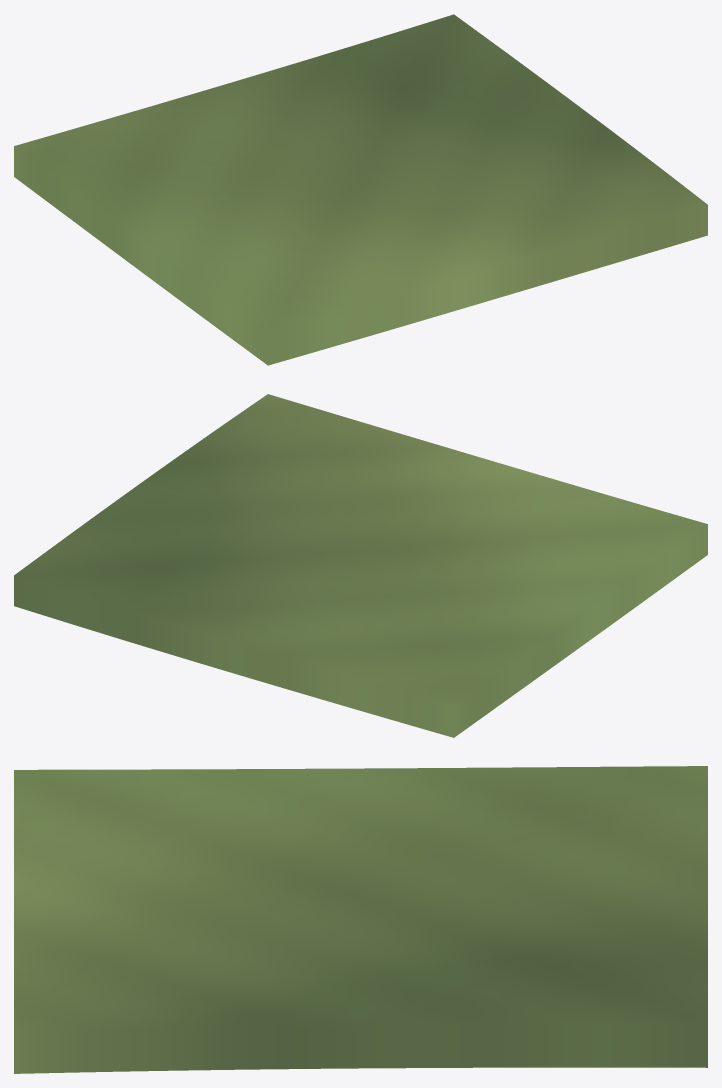
The picture shows the model from 3 angles, top to bottom: view 1: azimuth 30°, elevation 25°; view 2: azimuth 150°, elevation 25°; view 3: azimuth 270°, elevation 25°; orthographic projection. The views are drawn at different scales.
Parts seen in each view (by area): view 1: terrain; view 2: terrain; view 3: terrain.
Part boxes in pixels (x1,y1,x2,y2): terrain: [14, 14, 707, 365]; terrain: [14, 394, 707, 737]; terrain: [14, 766, 707, 1073].
Bounding box in the file's own units: 30 × 3.79 × 30.
